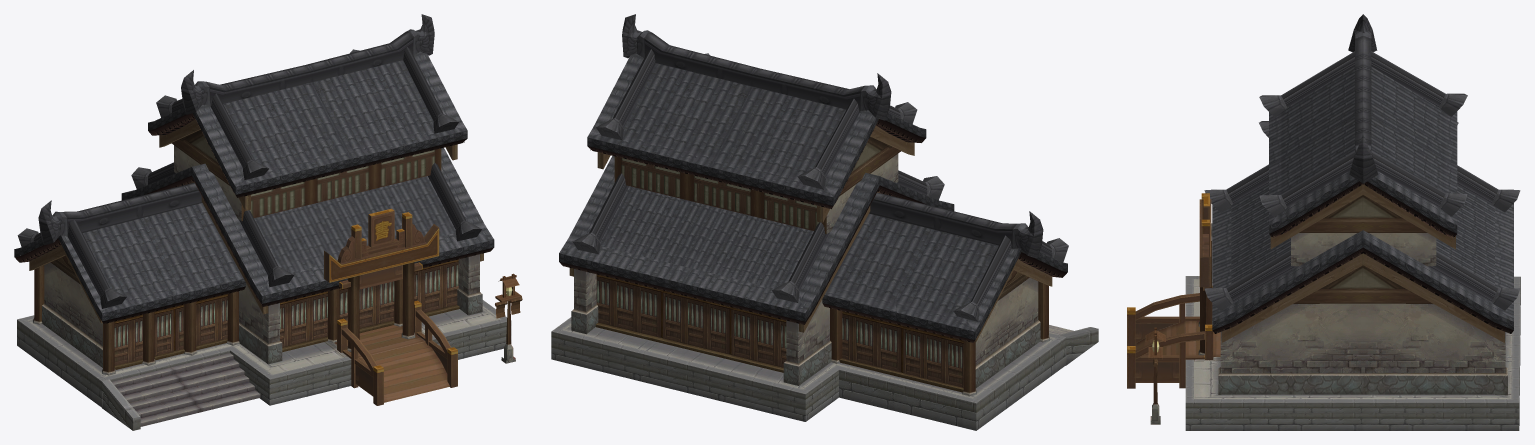
Rendered from City_bujian_21.fbx.
3 renders of one model, left to right at view 1: azimuth 30°, elevation 25°; view 2: azimuth 150°, elevation 25°; view 3: azimuth 270°, elevation 25°, orthographic. The views are drawn at different scales.
Visible parts, largest first — view 1: polySurface4, City_1_2017_3_7_2:City_1_2017_3_7_2:City_1_2017_3_7_2:pasted; view 2: City_1_2017_3_7_2:City_1_2017_3_7_2:City_1_2017_3_7_2:pasted, polySurface4; view 3: polySurface4, City_1_2017_3_7_2:City_1_2017_3_7_2:City_1_2017_3_7_2:pasted.
Part boxes in pixels (bbox=[...]): polySurface4: bbox=[15, 113, 522, 430]; City_1_2017_3_7_2:City_1_2017_3_7_2:City_1_2017_3_7_2:pasted: bbox=[14, 14, 494, 321]; City_1_2017_3_7_2:City_1_2017_3_7_2:City_1_2017_3_7_2:pasted: bbox=[559, 14, 1068, 340]; polySurface4: bbox=[551, 119, 1098, 430]; polySurface4: bbox=[1127, 181, 1520, 430]; City_1_2017_3_7_2:City_1_2017_3_7_2:City_1_2017_3_7_2:pasted: bbox=[1204, 14, 1520, 330].
Size of the model in its own units: 16.54 by 10.98 by 13.28.
